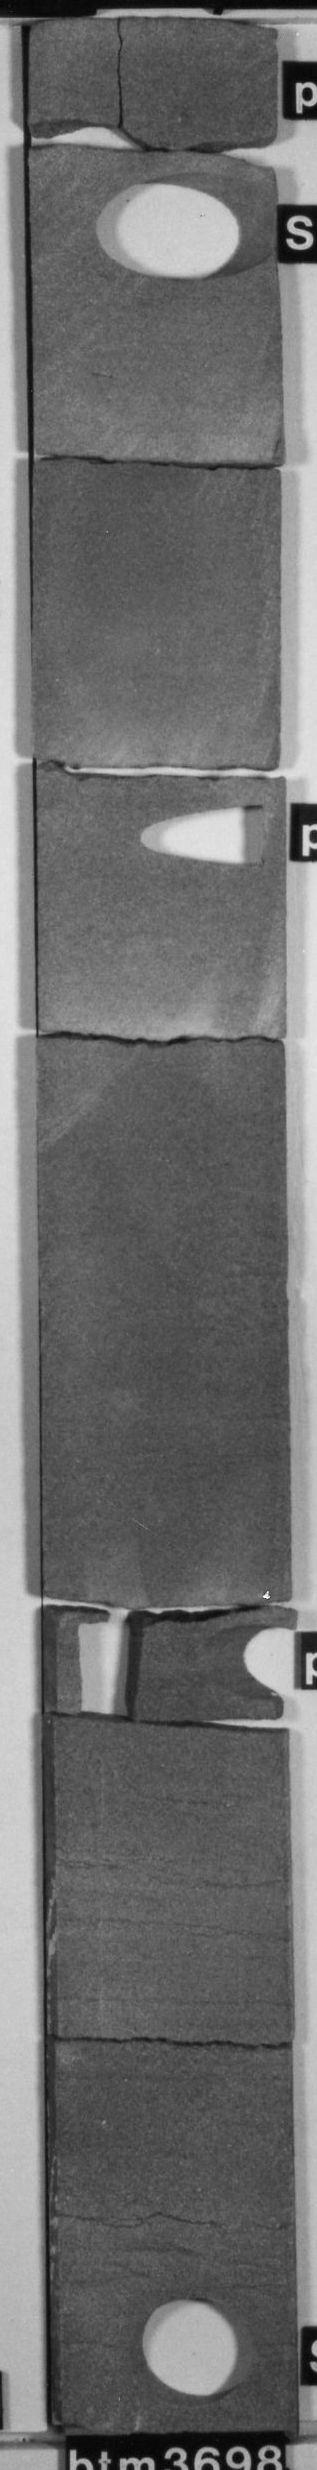hplug: (28, 113, 276, 169), (129, 789, 282, 873), (185, 1604, 289, 1712)
scal: (90, 173, 274, 290), (125, 2287, 263, 2405)
vplug: (66, 1594, 159, 1734)
